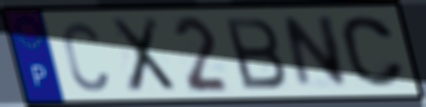2: (170, 13, 236, 95)
B: (221, 15, 290, 91)
C: (338, 14, 407, 89), (60, 19, 111, 94)
N: (280, 13, 351, 91)
X: (107, 15, 179, 95)
